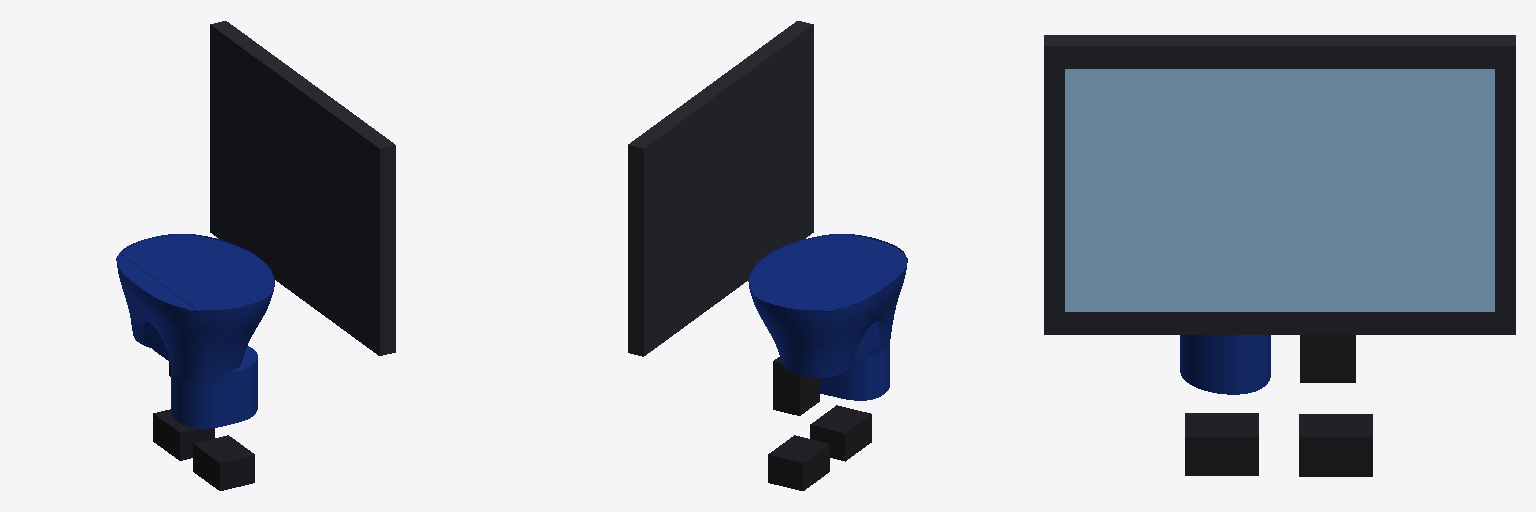
URDF robot description (haetburi):
<?xml version="1.0"?>
<!-- Haetburi biped (v15_xc330) - generated by tools/build_model.py, do not edit by hand -->
<robot name="haetburi">
  <mujoco>
    <compiler meshdir="." balanceinertia="true" discardvisual="false" strippath="false" fusestatic="false"/>
  </mujoco>
  <material name="display"><color rgba="0.18 0.19 0.21 1"/></material>
  <material name="screen"><color rgba="0.62 0.80 0.95 1"/></material>
  <material name="shell"><color rgba="0.106 0.216 0.541 1"/></material>
  <material name="motor"><color rgba="0.15 0.15 0.17 1"/></material>
  <material name="foot"><color rgba="0.25 0.25 0.28 1"/></material>
  <link name="world"/>
  <joint name="floating_base" type="floating">
    <parent link="world"/><child link="pelvis"/>
    <origin xyz="0 0 0" rpy="0 0 0"/>
  </joint>
  <link name="pelvis">
    <inertial>
      <origin xyz="-0.0105255 -6.11796e-05 0.044834" rpy="0 0 0"/>
      <mass value="0.295389"/>
      <inertia ixx="0.000334198" ixy="2.37702e-07" ixz="0.000135826" iyy="0.00044121" iyz="-3.09188e-07" izz="0.000370518"/>
    </inertial>
    <visual><origin xyz="0 0 0" rpy="0 0 0"/><geometry><mesh filename="meshes/pelvis.stl"/></geometry><material name="shell"/></visual>
    <visual><origin xyz="0.00880265 0.0245857 0.033" rpy="0 0 0"/><geometry><box size="0.034 0.02 0.026"/></geometry><material name="motor"/></visual>
    <visual><origin xyz="0.00879735 -0.024889 0.033" rpy="0 0 0"/><geometry><box size="0.034 0.02 0.026"/></geometry><material name="motor"/></visual>
    <collision><origin xyz="0.0074988 -0.000146911 0.02623" rpy="0 0 0"/><geometry><box size="0.089907 0.119391 0.05246"/></geometry></collision>
  </link>
  <link name="torso">
    <inertial>
      <origin xyz="0.0216135 0.000104354 0.130744" rpy="0 0 0"/>
      <mass value="2.17652"/>
      <inertia ixx="0.0357799" ixy="-0.000105021" ixz="0.00644111" iyy="0.035995" iyz="-0.000101018" izz="0.0196717"/>
    </inertial>
    <visual><origin xyz="0 0 0" rpy="0 0 0"/><geometry><mesh filename="meshes/torso.stl"/></geometry><material name="shell"/></visual>
    <visual><origin xyz="0.0843686 0 0.0406669" rpy="0 0 0"/><geometry><box size="0.011868 0.217236 0.146854"/></geometry><material name="display"/></visual>
    <visual><origin xyz="0.0903026 0 0.0406669" rpy="0 0 0"/><geometry><box size="0.0004 0.198144 0.12384"/></geometry><material name="screen"/></visual>
    <collision><origin xyz="-0.0391719 -1.82352e-06 0.0288995" rpy="0 0 0"/><geometry><box size="0.183869 0.124676 0.122779"/></geometry></collision>
    <collision><origin xyz="0.0478332 0.0965728 0.0582346" rpy="0 0 0"/><geometry><sphere radius="0.0698567"/></geometry></collision>
    <collision><origin xyz="0.0481639 -0.0967208 0.0582346" rpy="0 0 0"/><geometry><sphere radius="0.0697895"/></geometry></collision>
    <collision><origin xyz="-0.00600387 0.000307043 0.117894" rpy="0 0 0"/><geometry><sphere radius="0.119818"/></geometry></collision>
    <collision><origin xyz="-0.010462 -0.000141163 0.173068" rpy="0 0 0"/><geometry><sphere radius="0.138234"/></geometry></collision>
    <collision><origin xyz="-0.0159306 -0.000232984 0.22825" rpy="0 0 0"/><geometry><sphere radius="0.136633"/></geometry></collision>
    <collision><origin xyz="-0.0124975 0.000984204 0.28343" rpy="0 0 0"/><geometry><sphere radius="0.118808"/></geometry></collision>
    <collision><origin xyz="-0.00739515 0.00779025 0.338644" rpy="0 0 0"/><geometry><sphere radius="0.0846824"/></geometry></collision>
    <collision><origin xyz="-0.0135526 -0.00257485 0.393809" rpy="0 0 0"/><geometry><sphere radius="0.0491437"/></geometry></collision>
    <collision><origin xyz="0.0843686 0 0.0406669" rpy="0 0 0"/><geometry><box size="0.011868 0.217236 0.146854"/></geometry></collision>
  </link>
  <link name="leg_l">
    <inertial>
      <origin xyz="0.00676448 -0.000821314 -0.0219918" rpy="0 0 0"/>
      <mass value="0.095089"/>
      <inertia ixx="3.2536e-05" ixy="7.67274e-07" ixz="-2.47133e-06" iyy="3.71766e-05" iyz="3.42281e-07" izz="3.3556e-05"/>
    </inertial>
    <visual><origin xyz="0 0 0" rpy="0 0 0"/><geometry><mesh filename="meshes/leg_l.stl"/></geometry><material name="shell"/></visual>
    <visual><origin xyz="0.0157697 -0.00258 -0.018" rpy="0 0 0"/><geometry><box size="0.02 0.026 0.034"/></geometry><material name="motor"/></visual>
    <collision><origin xyz="0.00594238 -7.84141e-06 -0.01825" rpy="0 0 0"/><geometry><box size="0.0587847 0.0429672 0.0365"/></geometry></collision>
  </link>
  <link name="ankle_l">
    <inertial>
      <origin xyz="-0.00204419 -0.00242171 -0.023205" rpy="0 0 0"/>
      <mass value="0.0201049"/>
      <inertia ixx="6.28929e-06" ixy="0" ixz="0" iyy="4.2788e-06" iyz="0" izz="3.35082e-06"/>
    </inertial>
  </link>
  <link name="foot_l">
    <inertial>
      <origin xyz="0.000534726 0.0073892 -0.00232158" rpy="0 0 0"/>
      <mass value="0.0798228"/>
      <inertia ixx="2.03828e-05" ixy="-9.25168e-07" ixz="-2.06221e-07" iyy="2.76056e-05" iyz="-1.38617e-06" izz="3.29687e-05"/>
    </inertial>
    <visual><origin xyz="0 0 0" rpy="0 0 0"/><geometry><mesh filename="meshes/foot_l.stl"/></geometry><material name="shell"/></visual>
    <visual><origin xyz="0 0.0088 8.88178e-19" rpy="0 0 0"/><geometry><box size="0.026 0.034 0.02"/></geometry><material name="motor"/></visual>
    <collision><origin xyz="0 0 0" rpy="0 0 0"/><geometry><mesh filename="meshes/foot_l.stl"/></geometry></collision>
  </link>
  <link name="leg_r">
    <inertial>
      <origin xyz="0.00675283 0.00083143 -0.0219918" rpy="0 0 0"/>
      <mass value="0.0950803"/>
      <inertia ixx="3.25671e-05" ixy="-8.04731e-07" ixz="-2.46474e-06" iyy="3.71267e-05" iyz="-3.47062e-07" izz="3.35379e-05"/>
    </inertial>
    <visual><origin xyz="0 0 0" rpy="0 0 0"/><geometry><mesh filename="meshes/leg_r.stl"/></geometry><material name="shell"/></visual>
    <visual><origin xyz="0.0157576 0.00258 -0.018" rpy="0 0 0"/><geometry><box size="0.02 0.026 0.034"/></geometry><material name="motor"/></visual>
    <collision><origin xyz="0.00594676 1.24311e-05 -0.01825" rpy="0 0 0"/><geometry><box size="0.0587516 0.0430498 0.0365"/></geometry></collision>
  </link>
  <link name="ankle_r">
    <inertial>
      <origin xyz="-0.00240795 0.00220972 -0.023205" rpy="0 0 0"/>
      <mass value="0.0201049"/>
      <inertia ixx="6.28929e-06" ixy="0" ixz="0" iyy="4.2788e-06" iyz="0" izz="3.35082e-06"/>
    </inertial>
  </link>
  <link name="foot_r">
    <inertial>
      <origin xyz="0.000868835 -0.00717632 -0.00236172" rpy="0 0 0"/>
      <mass value="0.0796564"/>
      <inertia ixx="2.02028e-05" ixy="1.0119e-06" ixz="-2.24454e-07" iyy="2.75114e-05" iyz="1.34772e-06" izz="3.28357e-05"/>
    </inertial>
    <visual><origin xyz="0 0 0" rpy="0 0 0"/><geometry><mesh filename="meshes/foot_r.stl"/></geometry><material name="shell"/></visual>
    <visual><origin xyz="0 -0.0088 8.88178e-19" rpy="0 0 0"/><geometry><box size="0.026 0.034 0.02"/></geometry><material name="motor"/></visual>
    <collision><origin xyz="0 0 0" rpy="0 0 0"/><geometry><mesh filename="meshes/foot_r.stl"/></geometry></collision>
  </link>
  <joint name="waist_fixed" type="fixed">
    <parent link="pelvis"/><child link="torso"/>
    <origin xyz="0 0 0.05246" rpy="0 0 0"/>
  </joint>
  <joint name="hip_yaw_l" type="revolute">
    <parent link="pelvis"/><child link="leg_l"/>
    <origin xyz="2.6481e-06 0.0245857 0" rpy="0 0 0"/>
    <axis xyz="0 0 1"/>
    <limit lower="-0.523599" upper="0.523599" effort="1.0" velocity="7.43"/>
    <dynamics damping="0.07142857142857144" friction="0.028571428571428574"/>
  </joint>
  <joint name="hip_yaw_r" type="revolute">
    <parent link="pelvis"/><child link="leg_r"/>
    <origin xyz="-2.6481e-06 -0.024889 0" rpy="0 0 0"/>
    <axis xyz="0 0 1"/>
    <limit lower="-0.523599" upper="0.523599" effort="1.0" velocity="7.43"/>
    <dynamics damping="0.07142857142857144" friction="0.028571428571428574"/>
  </joint>
  <joint name="ankle_pitch_l" type="revolute">
    <parent link="leg_l"/><child link="ankle_l"/>
    <origin xyz="0.0157697 -0.00258 -0.0268" rpy="0 0 0"/>
    <axis xyz="0 1 0"/>
    <limit lower="-0.261799" upper="0.261799" effort="1.0" velocity="7.43"/>
    <dynamics damping="0.07142857142857144" friction="0.028571428571428574"/>
  </joint>
  <joint name="ankle_pitch_r" type="revolute">
    <parent link="leg_r"/><child link="ankle_r"/>
    <origin xyz="0.0157576 0.00258 -0.0268" rpy="0 0 0"/>
    <axis xyz="0 1 0"/>
    <limit lower="-0.261799" upper="0.261799" effort="1.0" velocity="7.43"/>
    <dynamics damping="0.07142857142857144" friction="0.028571428571428574"/>
  </joint>
  <joint name="ankle_roll_l" type="revolute">
    <parent link="ankle_l"/><child link="foot_l"/>
    <origin xyz="-0.00408839 -0.00484343 -0.04641" rpy="0 0 0"/>
    <axis xyz="1 0 0"/>
    <limit lower="-0.261799" upper="0.261799" effort="1.0" velocity="7.43"/>
    <dynamics damping="0.07142857142857144" friction="0.028571428571428574"/>
  </joint>
  <joint name="ankle_roll_r" type="revolute">
    <parent link="ankle_r"/><child link="foot_r"/>
    <origin xyz="-0.00481591 0.00441945 -0.04641" rpy="0 0 0"/>
    <axis xyz="1 0 0"/>
    <limit lower="-0.261799" upper="0.261799" effort="1.0" velocity="7.43"/>
    <dynamics damping="0.07142857142857144" friction="0.028571428571428574"/>
  </joint>
</robot>

--- What the picture shows (computed from the rendered views, not written in the file) ---
Views: 3 orthographic renders of the robot side by side, from view 1: azimuth 30°, elevation 25°; view 2: azimuth 150°, elevation 25°; view 3: azimuth 270°, elevation 25°.
Robot: haetburi — 9 links, 8 joints (6 revolute, 1 fixed, 1 floating); root link world; default pose: every joint at zero.
Visible links, largest first — view 1: torso, pelvis, leg_r, foot_r, foot_l; view 2: torso, pelvis, foot_l, leg_r, foot_r, leg_l; view 3: torso, leg_r, foot_l, foot_r, leg_l.
Link boxes in pixels (<box>): torso: <box>210,21,395,355</box>; pelvis: <box>116,234,274,377</box>; leg_r: <box>170,346,257,428</box>; foot_r: <box>193,435,254,490</box>; foot_l: <box>153,409,214,460</box>; torso: <box>628,21,813,356</box>; pelvis: <box>748,234,907,377</box>; foot_l: <box>768,435,829,490</box>; leg_r: <box>820,337,890,400</box>; foot_r: <box>810,405,871,461</box>; leg_l: <box>773,357,819,415</box>; torso: <box>1044,35,1515,334</box>; leg_r: <box>1180,335,1270,394</box>; foot_l: <box>1299,414,1372,476</box>; foot_r: <box>1185,413,1258,475</box>; leg_l: <box>1300,335,1355,382</box>.
Size in the robot's own frame: 0.128 by 0.2172 by 0.2498 metres.
Meshes: 6 distinct files referenced, 2 mesh visuals loaded (2 binary STL); not drawn: 4 (reference not matched to a file when rendering).
